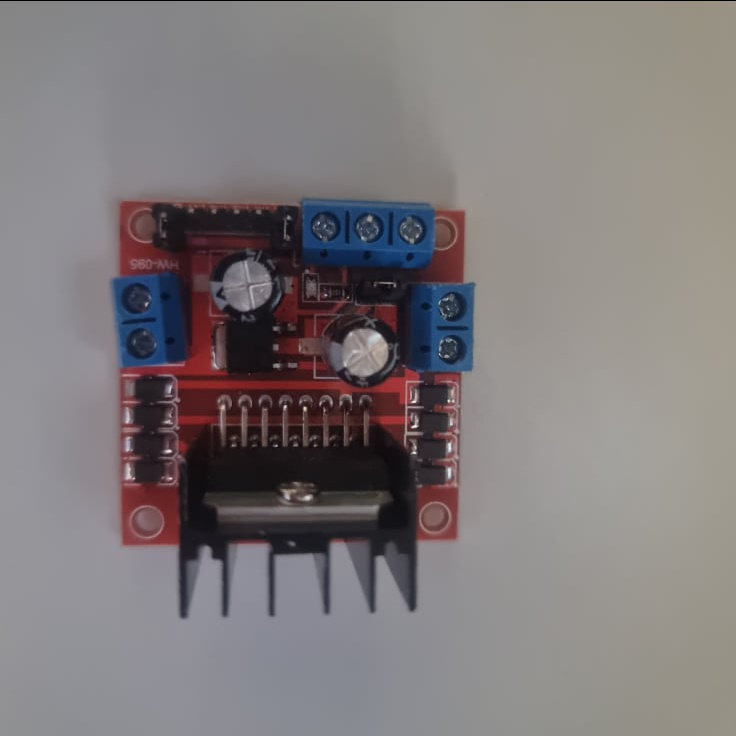MOTOR: (111, 200, 475, 621)
